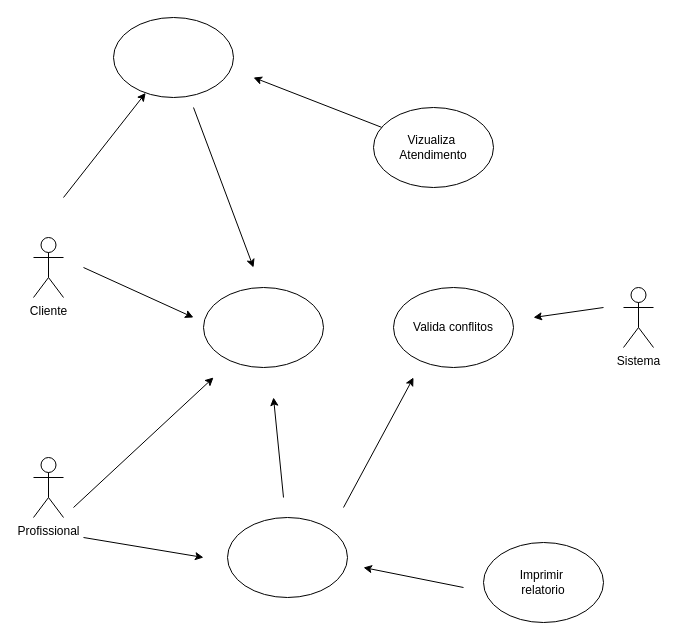
The diagram is 677 pixels wide and 640 high, and some of its shapes have lost their labels. Each missing label, with the box of its shape:
Autentica: (202, 286, 324, 368)
Gerencia Atendimento: (226, 516, 348, 598)
Marcar Atendimento: (112, 16, 234, 98)
